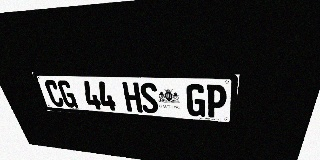4: (96, 81, 117, 111), (81, 81, 102, 110)
C: (43, 80, 65, 107)
G: (186, 84, 206, 117), (56, 80, 78, 108)
H: (122, 82, 143, 112)
P: (206, 84, 227, 118)
S: (139, 82, 159, 114)
